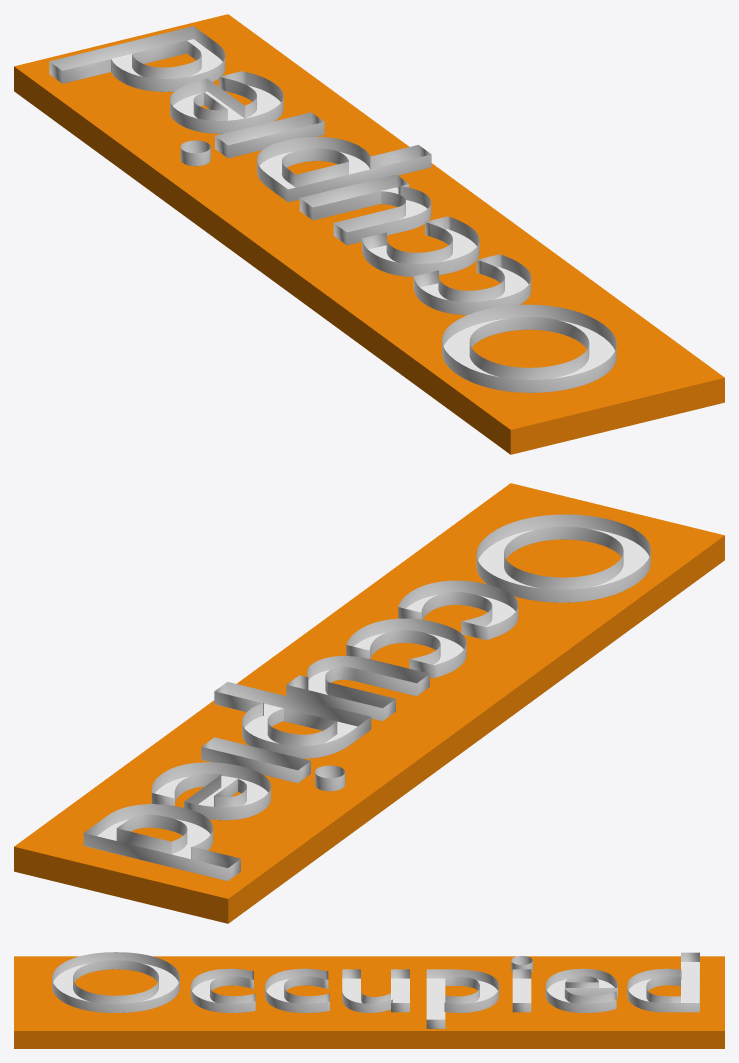
File: occupied1.glb
3 renders of one model, top to bottom at view 1: azimuth 30°, elevation 25°; view 2: azimuth 150°, elevation 25°; view 3: azimuth 270°, elevation 25°, orthographic. The views are drawn at different scales.
Visible parts, largest first — view 1: Cube, Text; view 2: Cube, Text; view 3: Cube, Text.
Boxes of the visible parts, left/top/right/bottom form: Cube: left=14, top=14, right=724, bottom=454; Text: left=49, top=26, right=616, bottom=392; Cube: left=14, top=483, right=724, bottom=923; Text: left=83, top=514, right=650, bottom=880; Cube: left=14, top=956, right=724, bottom=1048; Text: left=52, top=952, right=699, bottom=1028.
Bounding box in the file's own units: 1.26 × 0.2162 × 5.06.
